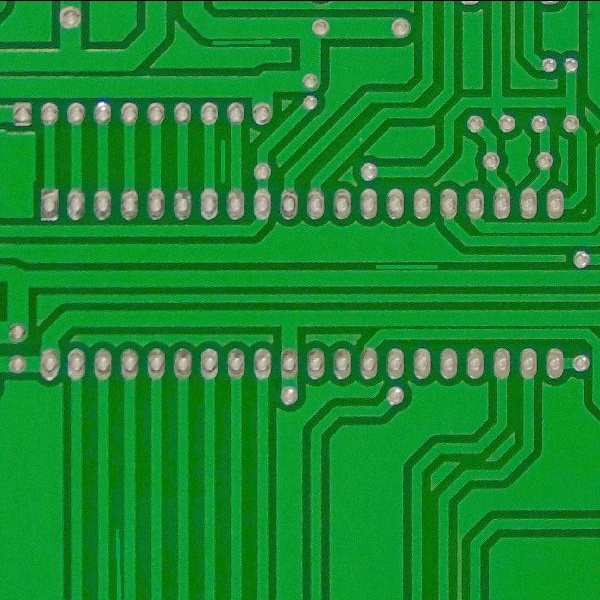spurious_copper: (371, 255, 446, 277), (208, 31, 278, 53), (108, 524, 127, 599), (215, 135, 233, 185)
